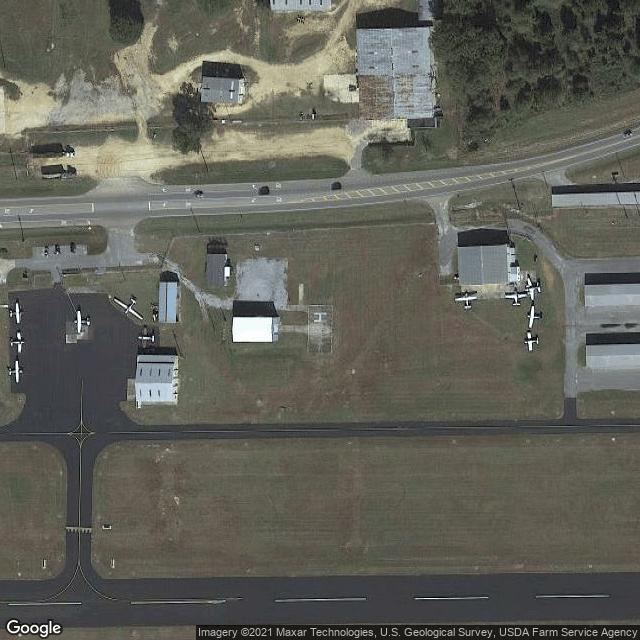Helipad: (304, 301, 335, 359)
